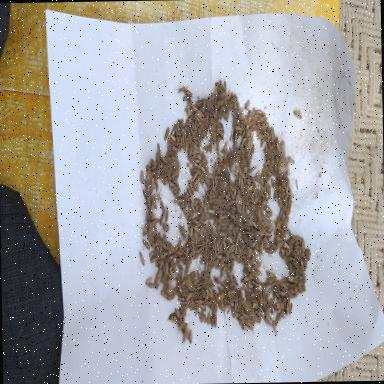pbw: (262, 164, 272, 177), (264, 247, 278, 256), (266, 275, 278, 285), (255, 124, 265, 136), (185, 192, 192, 208), (188, 212, 194, 230), (175, 84, 188, 92), (192, 291, 202, 301), (238, 312, 245, 326), (160, 210, 166, 226), (142, 238, 150, 250), (282, 216, 288, 232), (190, 98, 196, 114), (250, 144, 255, 163), (139, 251, 145, 266), (171, 243, 180, 253), (223, 274, 232, 284), (224, 174, 230, 189), (166, 312, 176, 321), (186, 108, 194, 119), (287, 155, 295, 166), (237, 192, 244, 204), (158, 270, 164, 284), (141, 186, 147, 200), (188, 179, 194, 193), (256, 230, 268, 237), (200, 310, 206, 324), (222, 262, 228, 276), (270, 296, 276, 310), (146, 171, 152, 185), (250, 174, 257, 186), (263, 236, 270, 248), (276, 196, 282, 210), (244, 98, 250, 112), (140, 224, 146, 238), (164, 127, 170, 141), (246, 294, 252, 308), (254, 258, 262, 268), (212, 274, 220, 284), (273, 158, 278, 174), (286, 272, 294, 282), (248, 165, 258, 173), (221, 282, 229, 292), (188, 324, 192, 344), (186, 187, 194, 197), (144, 178, 150, 191), (167, 293, 178, 300), (257, 307, 264, 318), (261, 282, 268, 293), (225, 200, 236, 207), (168, 285, 175, 296), (180, 237, 187, 248), (273, 186, 278, 201), (282, 144, 286, 162), (248, 322, 254, 334), (150, 210, 156, 222), (246, 218, 254, 227), (278, 207, 284, 219), (252, 281, 261, 289), (257, 116, 266, 124), (171, 170, 179, 179), (160, 289, 168, 298), (212, 83, 218, 95), (186, 292, 193, 302), (271, 148, 276, 162), (250, 122, 257, 132), (146, 212, 153, 222), (181, 268, 186, 282), (245, 288, 252, 298), (198, 309, 203, 323), (144, 222, 149, 236), (231, 304, 236, 318), (194, 102, 204, 109), (202, 100, 207, 114), (276, 220, 282, 231), (270, 177, 276, 188), (149, 182, 154, 195), (269, 240, 277, 248), (207, 308, 211, 324), (240, 285, 244, 301), (160, 251, 168, 259), (196, 110, 204, 118), (217, 293, 225, 301), (210, 111, 218, 119), (187, 300, 195, 308), (260, 198, 268, 206), (286, 200, 290, 216), (218, 304, 226, 312), (146, 276, 154, 284), (186, 99, 190, 115), (285, 289, 293, 297), (230, 113, 237, 122), (263, 159, 270, 168), (159, 152, 165, 162), (192, 172, 198, 182), (260, 182, 266, 192), (151, 198, 156, 210), (174, 198, 184, 204), (276, 172, 282, 182), (178, 118, 183, 130), (150, 257, 160, 263), (212, 217, 218, 227), (208, 298, 214, 308), (226, 298, 232, 308), (208, 286, 214, 296), (195, 176, 201, 186), (212, 227, 218, 237), (161, 176, 167, 186), (274, 288, 280, 298), (254, 108, 264, 114), (184, 138, 188, 152), (251, 286, 258, 294), (140, 170, 144, 184), (230, 280, 237, 288), (266, 179, 270, 193), (242, 312, 249, 320), (280, 276, 287, 284), (214, 94, 218, 108), (250, 138, 254, 152), (300, 260, 304, 274), (296, 234, 304, 241), (194, 278, 201, 286), (165, 262, 169, 276), (165, 208, 169, 222), (274, 312, 278, 326), (206, 258, 210, 272), (270, 165, 275, 176), (247, 284, 252, 295), (218, 120, 224, 129), (250, 202, 256, 211), (200, 304, 206, 313), (183, 95, 192, 101), (184, 125, 190, 134), (251, 219, 257, 228), (278, 250, 284, 259), (196, 116, 202, 125), (146, 207, 150, 220), (216, 124, 220, 137), (288, 203, 292, 216), (224, 150, 228, 163), (214, 311, 217, 328), (232, 230, 237, 240), (171, 124, 176, 134), (286, 249, 293, 256), (252, 197, 258, 205), (254, 248, 260, 256), (291, 248, 297, 256), (168, 272, 174, 280), (160, 200, 164, 212), (267, 271, 275, 277), (257, 134, 265, 140), (220, 262, 226, 270), (156, 142, 160, 154), (196, 300, 204, 306), (149, 249, 155, 257), (232, 168, 238, 176), (178, 296, 186, 302), (168, 279, 172, 291), (148, 282, 156, 288), (247, 260, 251, 272), (234, 242, 238, 254), (284, 242, 290, 250), (276, 302, 284, 308), (275, 151, 279, 163), (212, 178, 215, 194), (284, 228, 290, 236), (245, 184, 253, 190), (258, 210, 262, 222), (234, 308, 238, 320), (246, 212, 254, 218), (146, 168, 150, 180), (288, 256, 296, 262), (236, 100, 240, 112), (195, 305, 199, 317), (268, 286, 272, 298), (170, 134, 176, 142), (192, 218, 200, 224), (208, 209, 216, 215), (235, 125, 243, 131), (228, 162, 232, 174), (152, 218, 160, 224), (289, 302, 293, 314), (208, 292, 216, 298), (198, 154, 204, 162), (286, 162, 290, 174), (249, 110, 254, 119), (213, 289, 218, 298), (224, 141, 228, 152), (192, 202, 196, 213), (190, 194, 194, 205), (238, 165, 242, 176), (302, 239, 305, 253), (228, 237, 234, 244), (211, 92, 214, 106), (198, 200, 204, 207), (272, 290, 276, 300), (219, 154, 224, 162), (218, 232, 228, 236), (265, 211, 273, 216), (226, 193, 231, 201), (194, 226, 199, 234), (240, 177, 244, 187), (193, 182, 198, 190), (284, 194, 288, 204), (242, 276, 250, 281), (260, 138, 264, 148), (278, 310, 282, 320), (276, 142, 280, 152), (276, 280, 280, 290), (179, 284, 183, 294), (261, 241, 264, 254), (180, 135, 182, 154), (175, 264, 178, 276), (204, 219, 210, 225), (194, 168, 200, 174), (266, 215, 272, 221), (280, 291, 286, 297), (190, 226, 193, 238), (268, 226, 274, 232), (265, 207, 272, 212), (206, 225, 210, 233), (170, 180, 174, 188), (276, 178, 280, 186), (242, 203, 246, 211), (269, 183, 271, 199), (292, 268, 296, 276), (281, 248, 285, 256), (253, 240, 258, 246), (204, 112, 210, 117), (231, 186, 236, 192), (196, 285, 202, 290), (253, 114, 260, 118), (240, 237, 244, 244), (305, 248, 312, 252), (224, 304, 231, 308), (201, 166, 205, 173), (200, 229, 203, 238), (190, 145, 192, 158), (216, 255, 222, 259), (152, 176, 154, 188), (266, 232, 272, 236), (268, 222, 274, 226), (194, 160, 200, 164), (182, 116, 184, 128), (169, 266, 173, 272), (204, 206, 207, 214), (224, 80, 226, 92), (286, 183, 288, 194), (217, 242, 219, 252), (288, 178, 290, 188), (196, 223, 200, 227), (234, 189, 236, 197), (224, 242, 226, 249), (231, 180, 234, 184)
